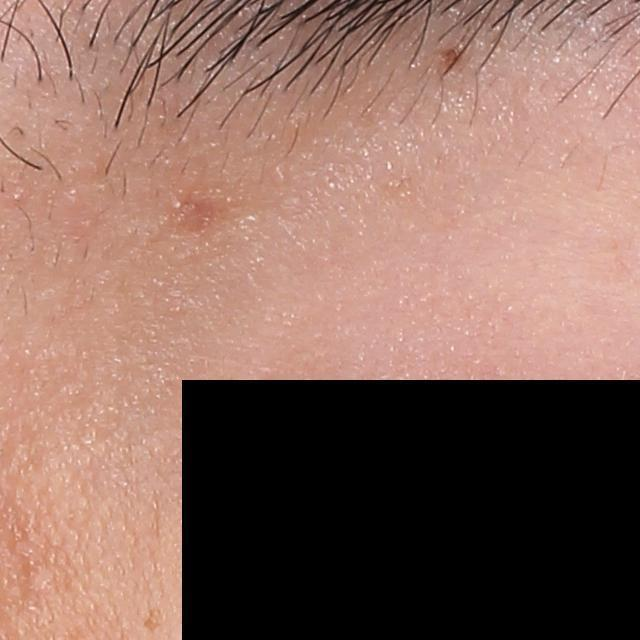melasma: (140, 608, 164, 629)
nevus: (437, 43, 469, 74)
